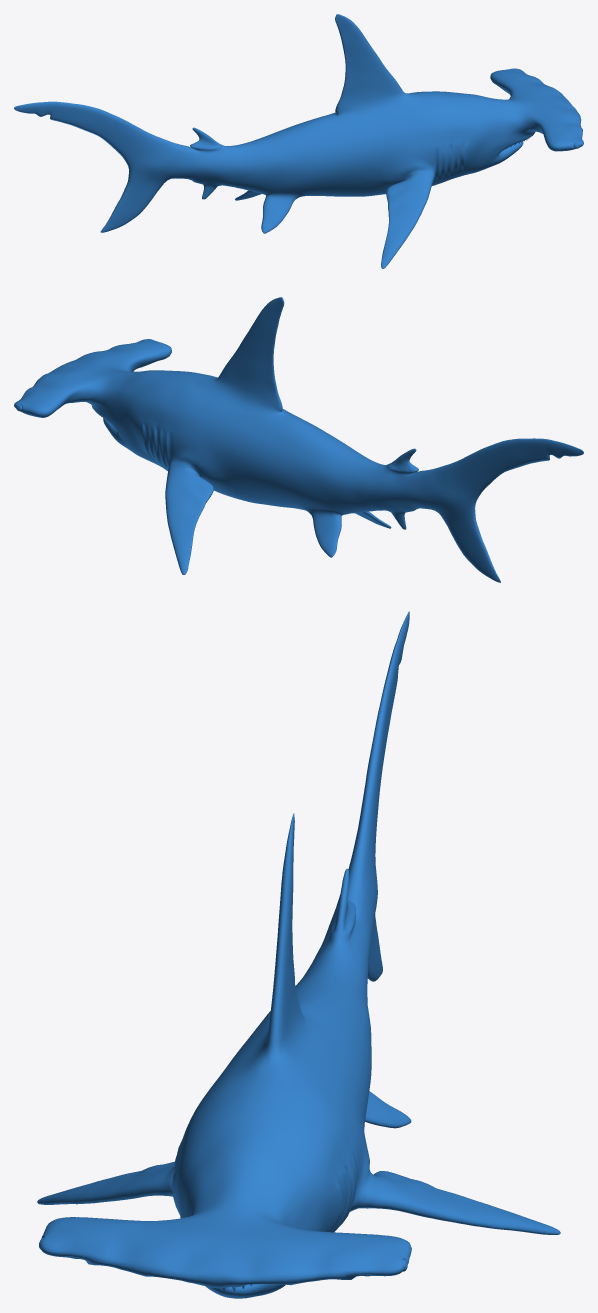
File: Tiburon.obj
3 views of the same model, one above another, from view 1: azimuth 30°, elevation 25°; view 2: azimuth 150°, elevation 25°; view 3: azimuth 270°, elevation 25° (orthographic). The views are drawn at different scales.
Visible parts, largest first — view 1: hammerhead_shark; view 2: hammerhead_shark; view 3: hammerhead_shark.
Boxes of the visible parts, x1=… form: hammerhead_shark: x1=14, y1=14, x2=583, y2=268; hammerhead_shark: x1=14, y1=297, x2=583, y2=582; hammerhead_shark: x1=37, y1=611, x2=560, y2=1298.
Size of the model in its own units: 115 by 43.55 by 50.74.
